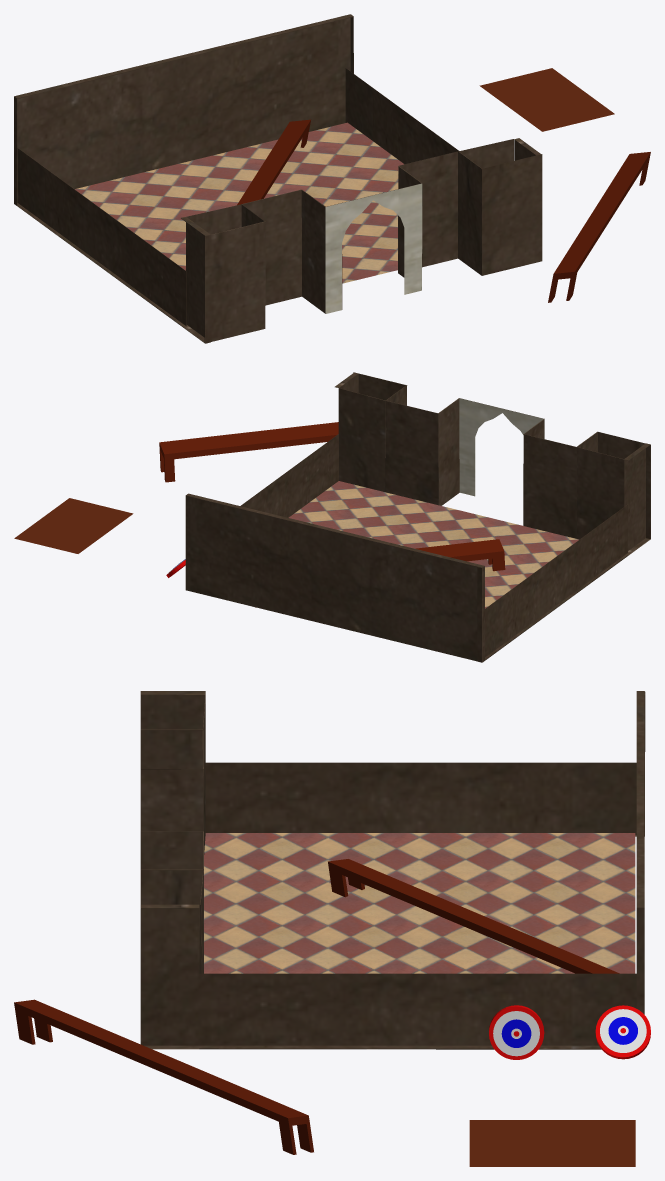
Rendered from Persian_academy_building_onConstruction.fbx.
The picture shows the model from 3 angles, top to bottom: view 1: azimuth 30°, elevation 25°; view 2: azimuth 150°, elevation 25°; view 3: azimuth 270°, elevation 25°; orthographic projection. The views are drawn at different scales.
Visible parts, largest first — view 1: Circle, Plane, Plane.001, Cube.000, Cube.007; view 2: Circle, Plane, Cube.000, Plane.001, Cube.007; view 3: Circle, Plane, Plane.001, Cube.000, Cube.007, Cylinder.000, Cylinder.001.
Part boxes in pixels (bbox=[...]): Circle: bbox=[14, 14, 542, 343]; Plane: bbox=[75, 122, 403, 283]; Plane.001: bbox=[479, 68, 614, 131]; Cube.000: bbox=[548, 152, 650, 302]; Cube.007: bbox=[237, 119, 310, 205]; Circle: bbox=[185, 372, 650, 662]; Plane: bbox=[288, 481, 578, 608]; Cube.000: bbox=[159, 422, 338, 482]; Plane.001: bbox=[14, 498, 133, 553]; Cube.007: bbox=[255, 539, 505, 607]; Circle: bbox=[140, 691, 645, 1049]; Plane: bbox=[204, 833, 635, 973]; Plane.001: bbox=[469, 1120, 635, 1166]; Cube.000: bbox=[14, 999, 313, 1154]; Cube.007: bbox=[328, 859, 619, 973]; Cylinder.000: bbox=[489, 1005, 544, 1059]; Cylinder.001: bbox=[595, 1005, 650, 1059].
Bounding box in the file's own units: 1471 × 300 × 1150.
